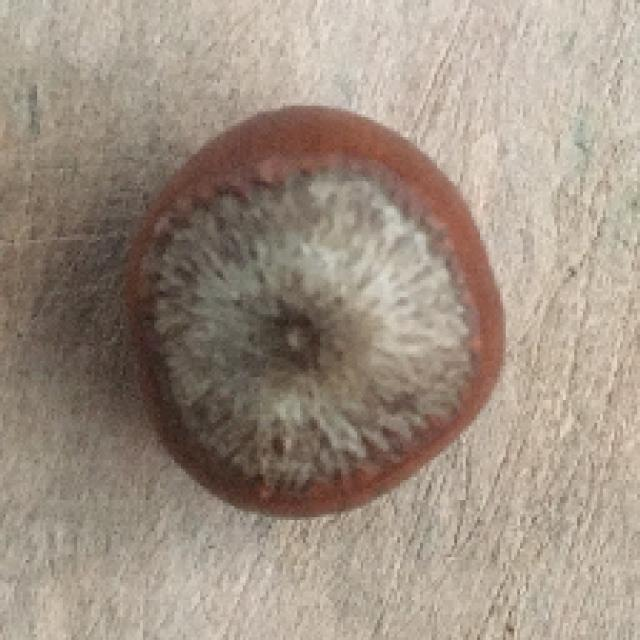qualityHazelnut: (124, 96, 509, 520)
